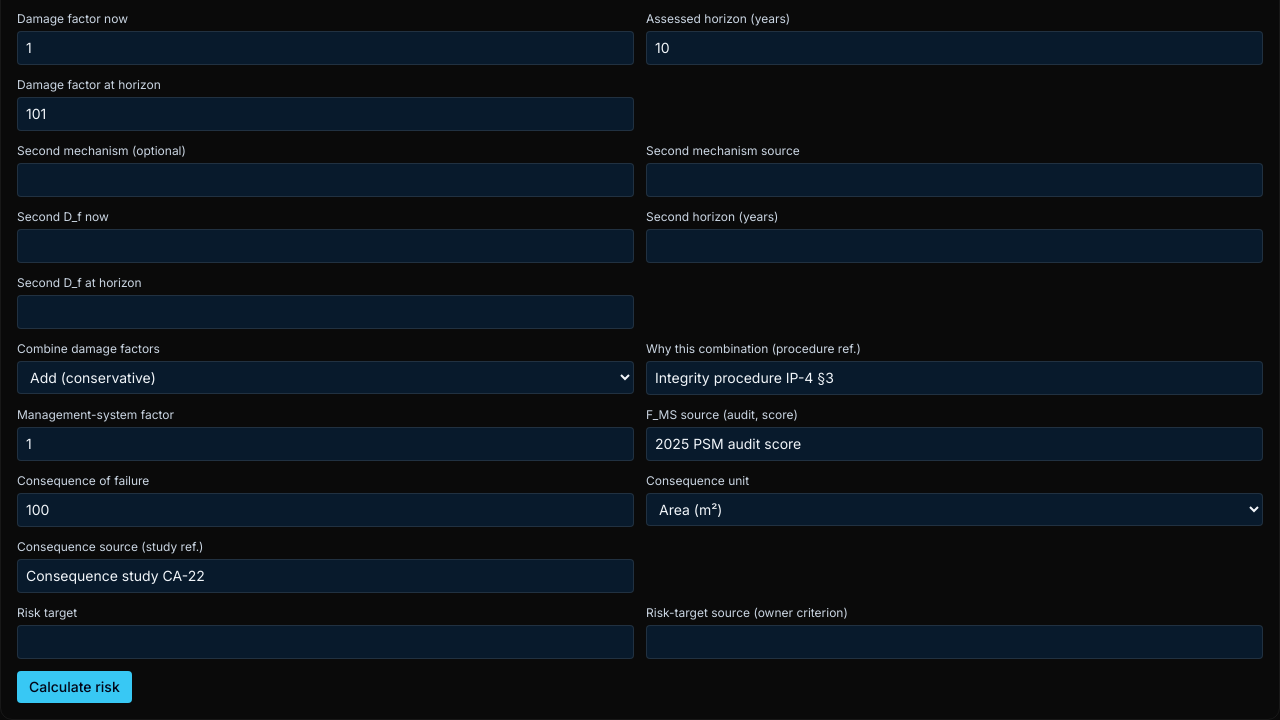
Test: RbiPlanner › surfaces a server refusal from the governed door
Earlier steps of the test are not shown.
(page scrolled)
In the number field labelled "Risk target": (326, 642) [17, 625, 634, 659], type "0.05"
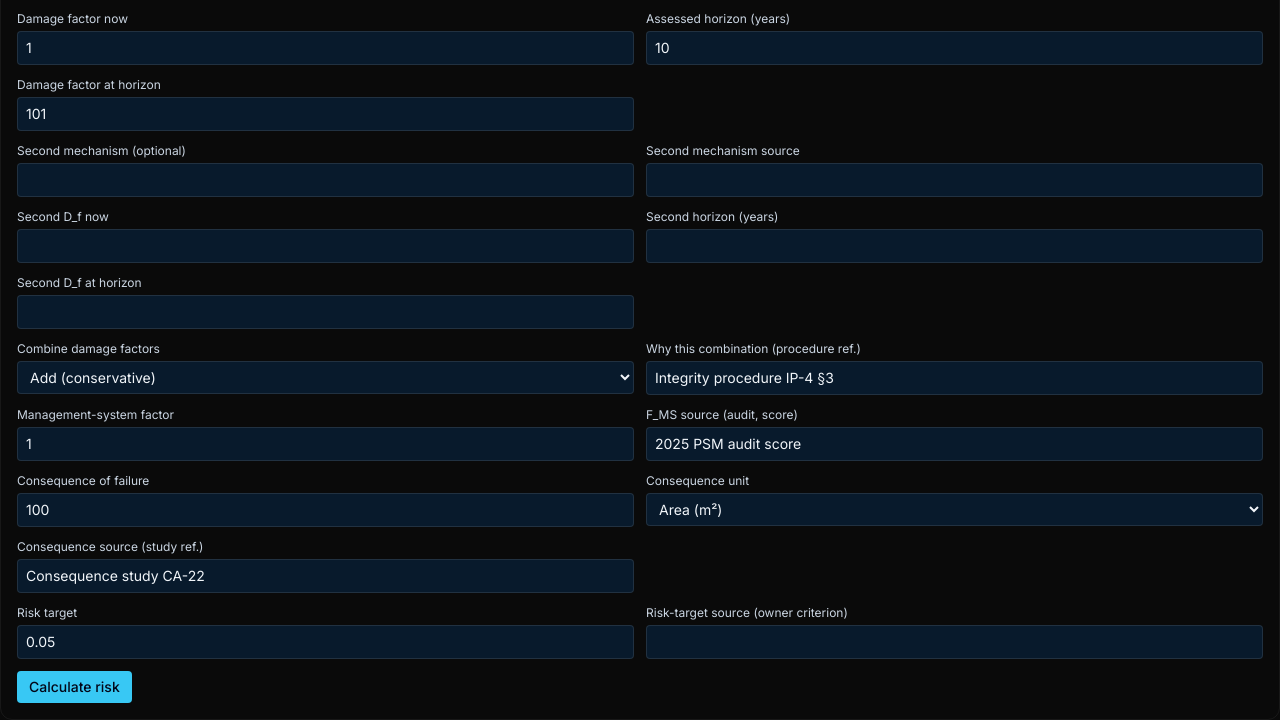
In the field labelled "Risk-target source (owner criterion)": (954, 642) [646, 625, 1263, 659], type "Integrity risk target IRT-1"
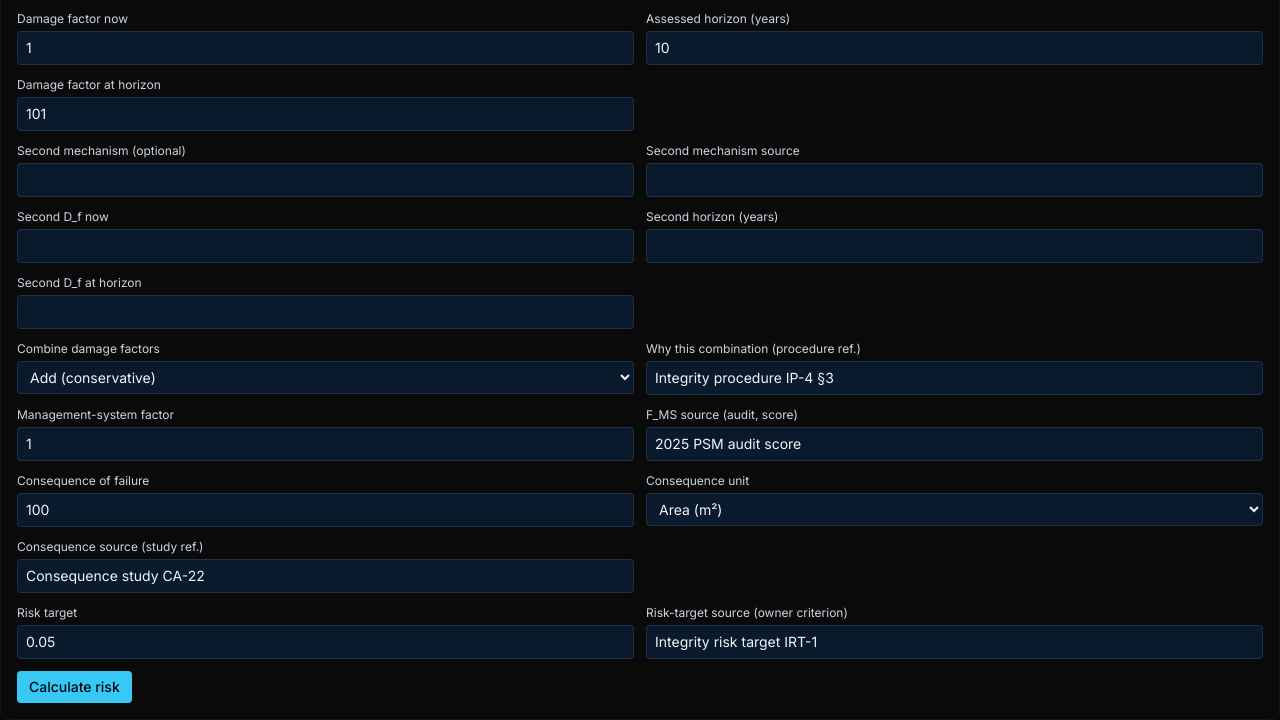
Click the button "Calculate risk": click(74, 687) [17, 671, 132, 703]
(page scrolled)
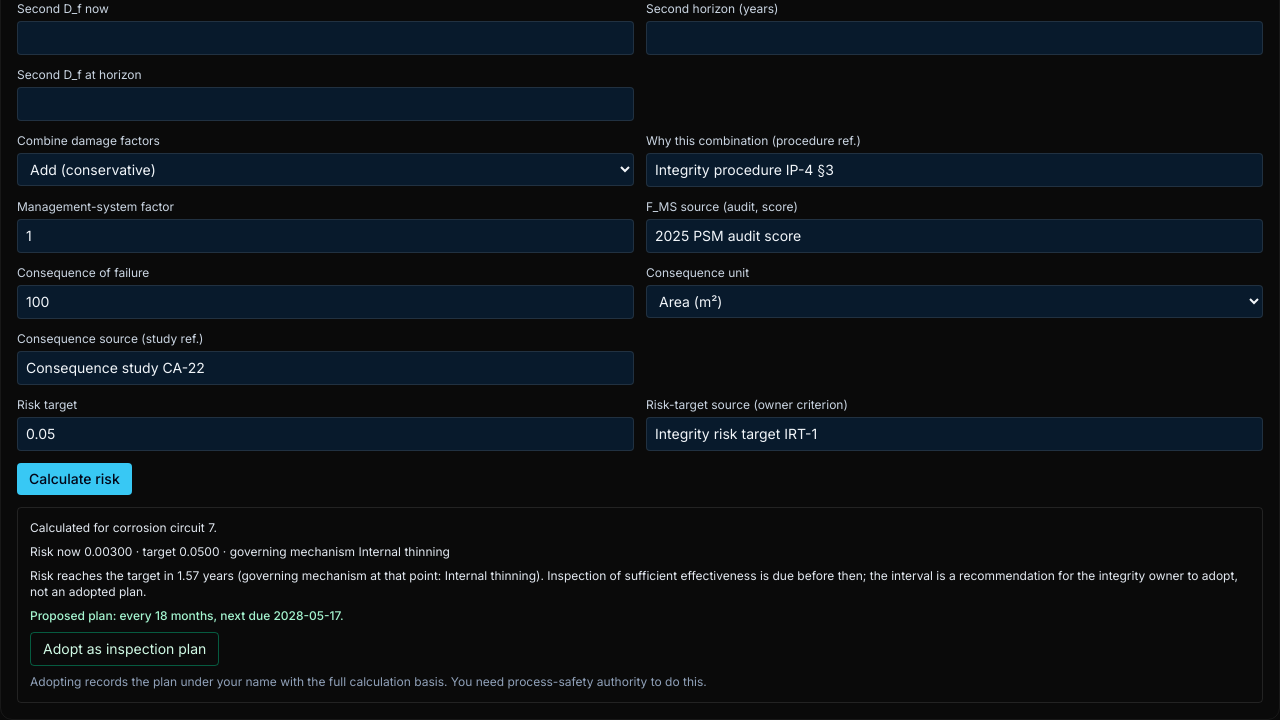
Click the button "Adopt as inspection plan": click(125, 649) [30, 632, 219, 666]
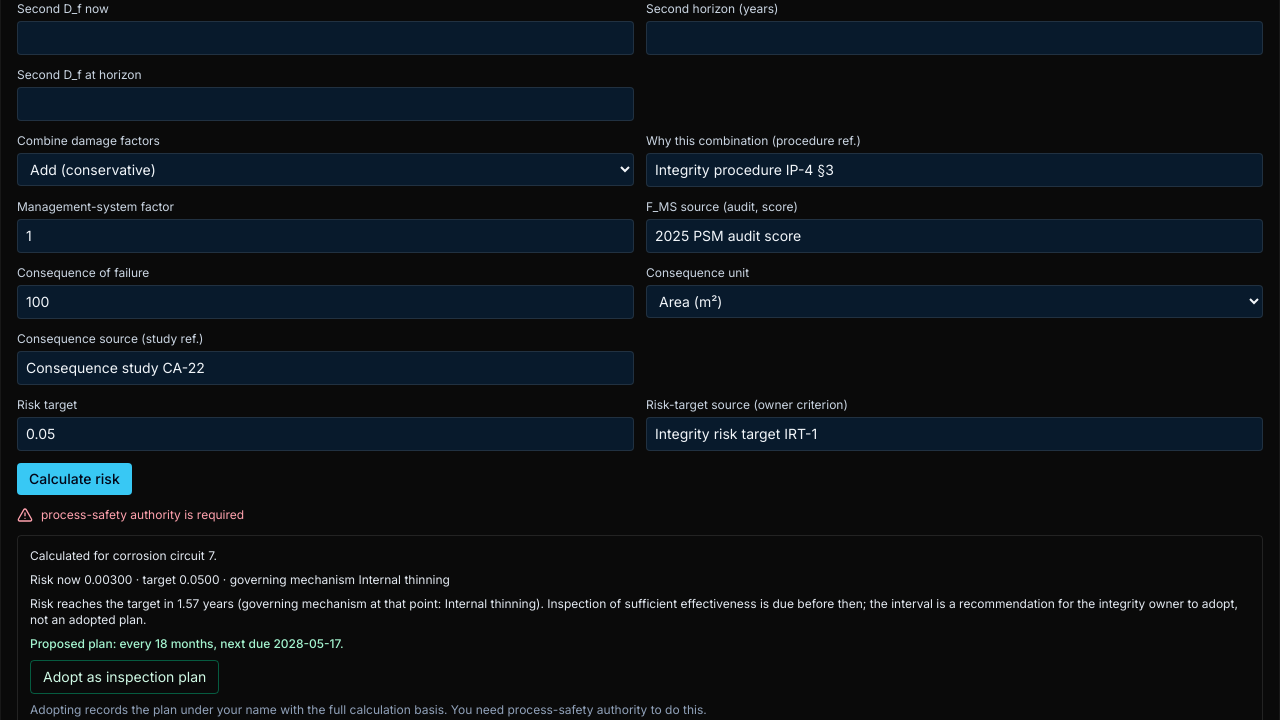
Result: the message "process-safety authority is required" is shown at [17, 507, 244, 523]
